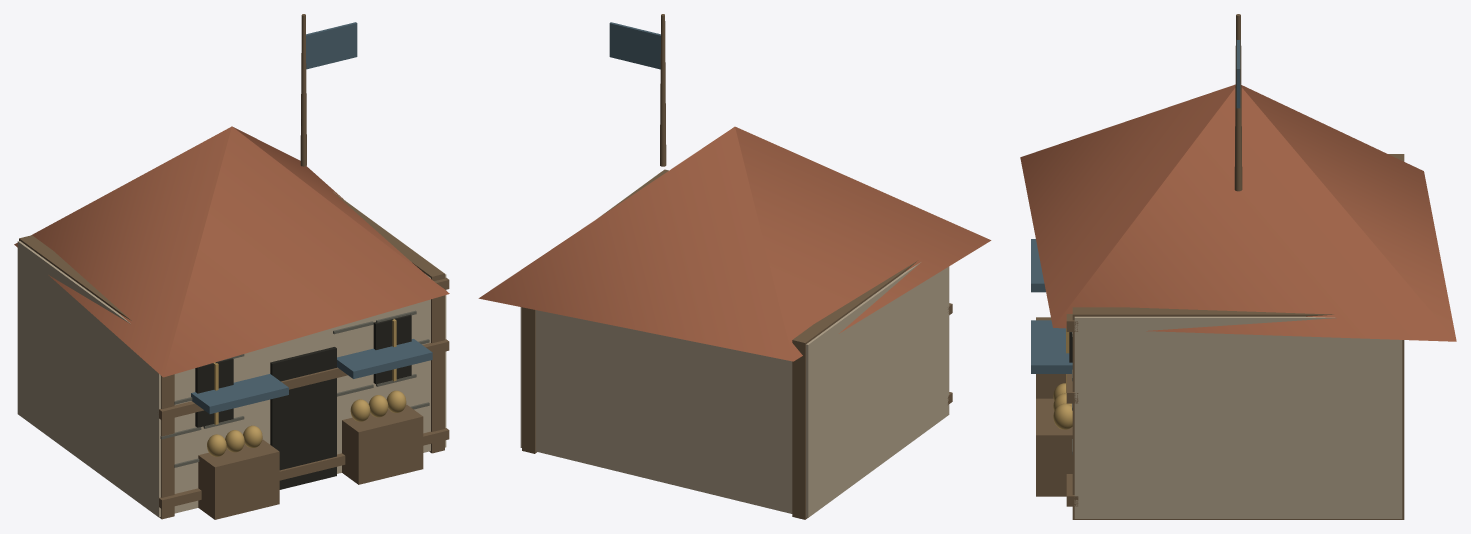
The model's file is b-market-castilian.glb.
3 views of the same model, side by side, from view 1: azimuth 30°, elevation 25°; view 2: azimuth 150°, elevation 25°; view 3: azimuth 270°, elevation 25° (orthographic). The views are drawn at different scales.
Visible parts, largest first — view 1: Structure; view 2: Structure; view 3: Structure.
Boxes of the visible parts, x1=… form: Structure: x1=14, y1=14, x2=449, y2=519; Structure: x1=478, y1=14, x2=991, y2=519; Structure: x1=1020, y1=14, x2=1456, y2=519.
Size of the model in its own units: 4.53 by 5.33 by 4.53.
